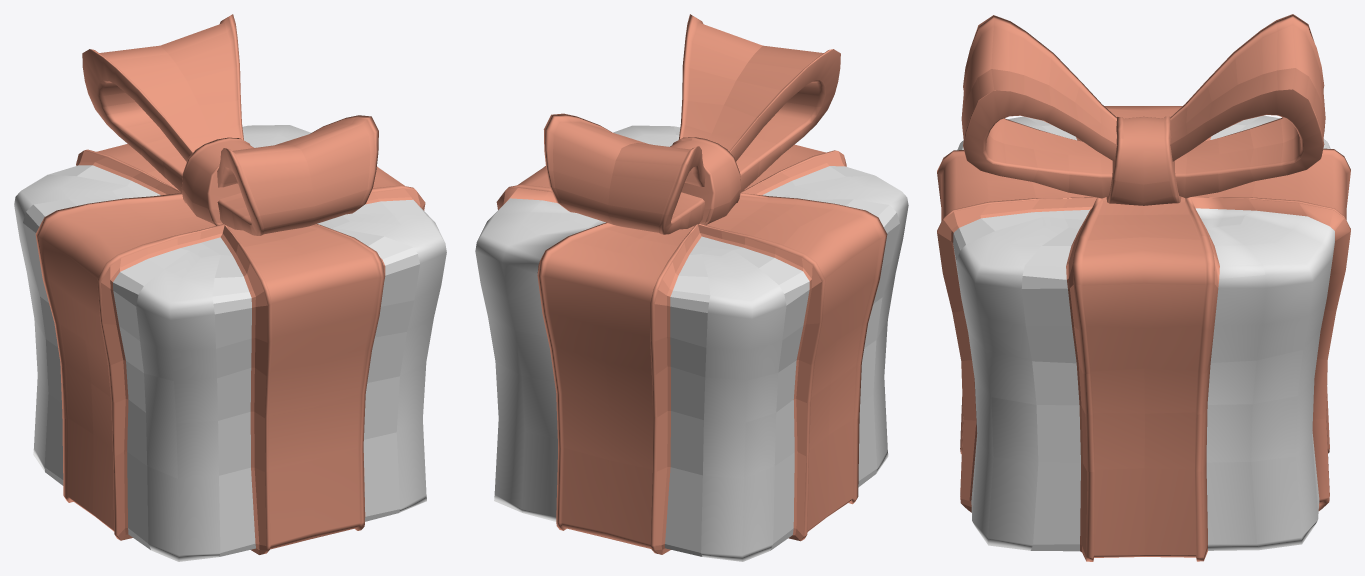
Rendered from Package_regular.fbx.
3 renders of one model, left to right at view 1: azimuth 30°, elevation 25°; view 2: azimuth 150°, elevation 25°; view 3: azimuth 270°, elevation 25°, orthographic. The views are drawn at different scales.
Visible parts, largest first — view 1: Package_cube; view 2: Package_cube; view 3: Package_cube.
Boxes of the visible parts, <box> form: Package_cube: <box>14,14,446,561</box>; Package_cube: <box>475,14,908,561</box>; Package_cube: <box>937,14,1350,561</box>.
Size of the model in its own units: 316 by 377 by 322.
